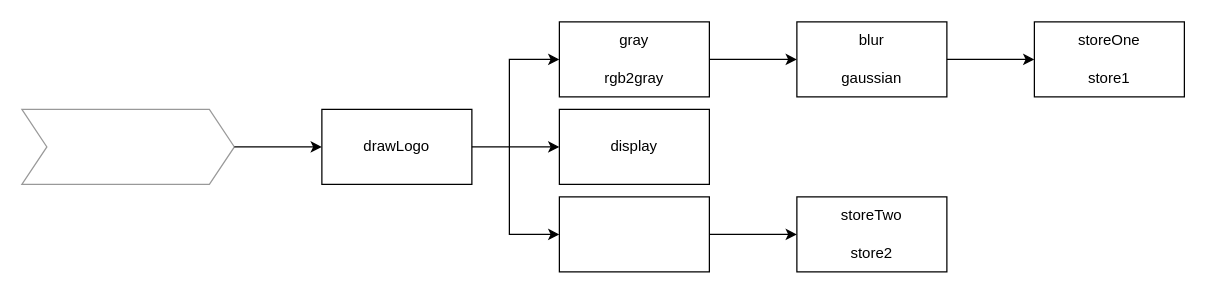
Some shapes in this 1206 by 294 pixel diagram are drawn without their labels. The shapes that lost their labels are listed below. From the top down, each one's centre as x and y in pixels, then its label:
At point 127,146: "ZmqReceiveManager".
At point 633,234: "circle".
